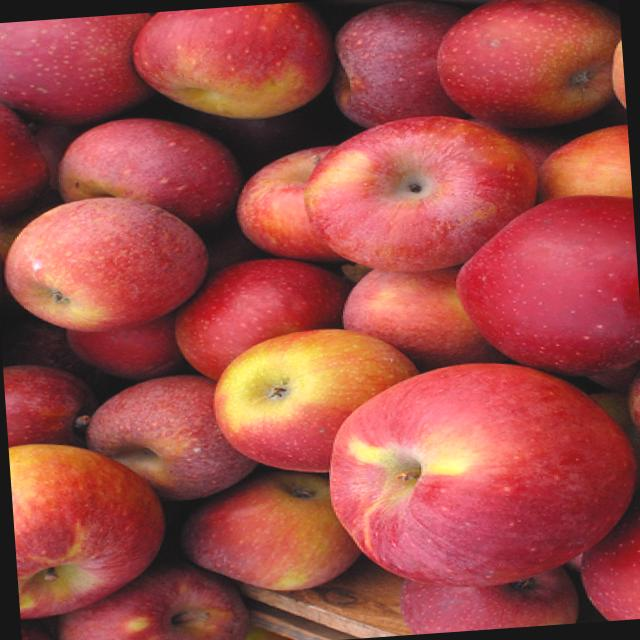apple: (330, 352, 631, 592), (301, 110, 539, 276), (210, 325, 420, 477), (6, 186, 202, 344), (11, 440, 166, 614), (132, 0, 333, 124), (423, 0, 626, 120)
